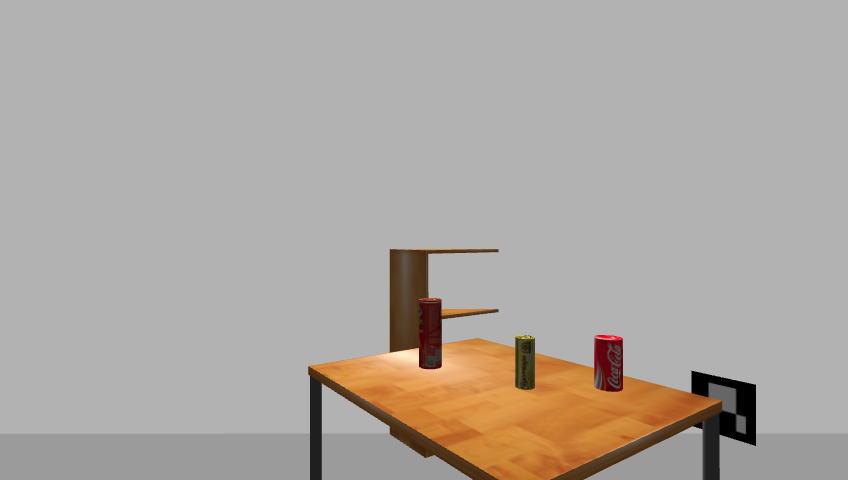aruco marker: (687, 369, 762, 448)
biscuits pack: (514, 335, 537, 391)
bookshelf: (385, 243, 503, 412)
coke can: (592, 335, 625, 393)
dinner table: (301, 338, 729, 479)
pringles can: (417, 298, 444, 371)
